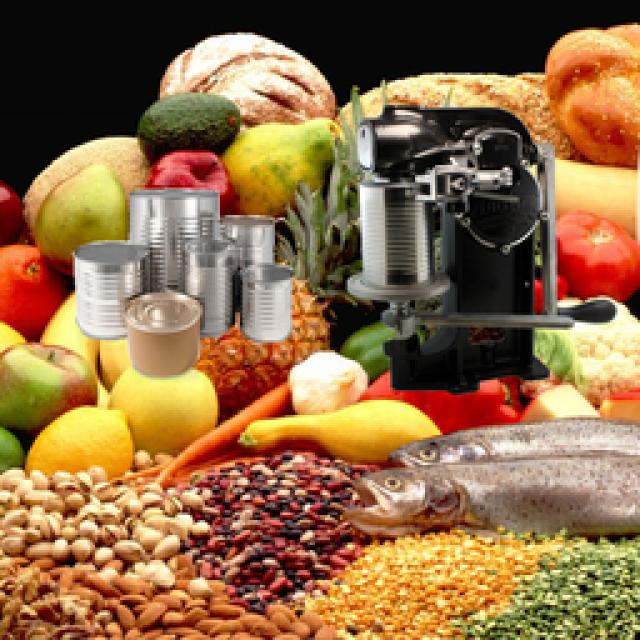alumunium: (72, 188, 290, 375)
